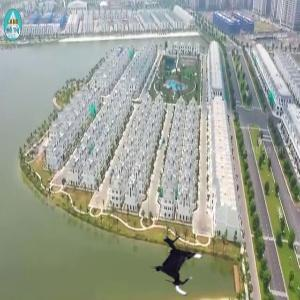drone: (146, 230, 215, 299)
